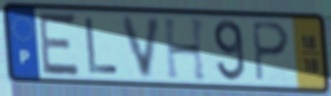9: (212, 18, 247, 83)
E: (38, 11, 82, 78)
H: (161, 16, 210, 83)
L: (82, 15, 120, 75)
P: (250, 19, 292, 84)
V: (119, 15, 165, 81)
